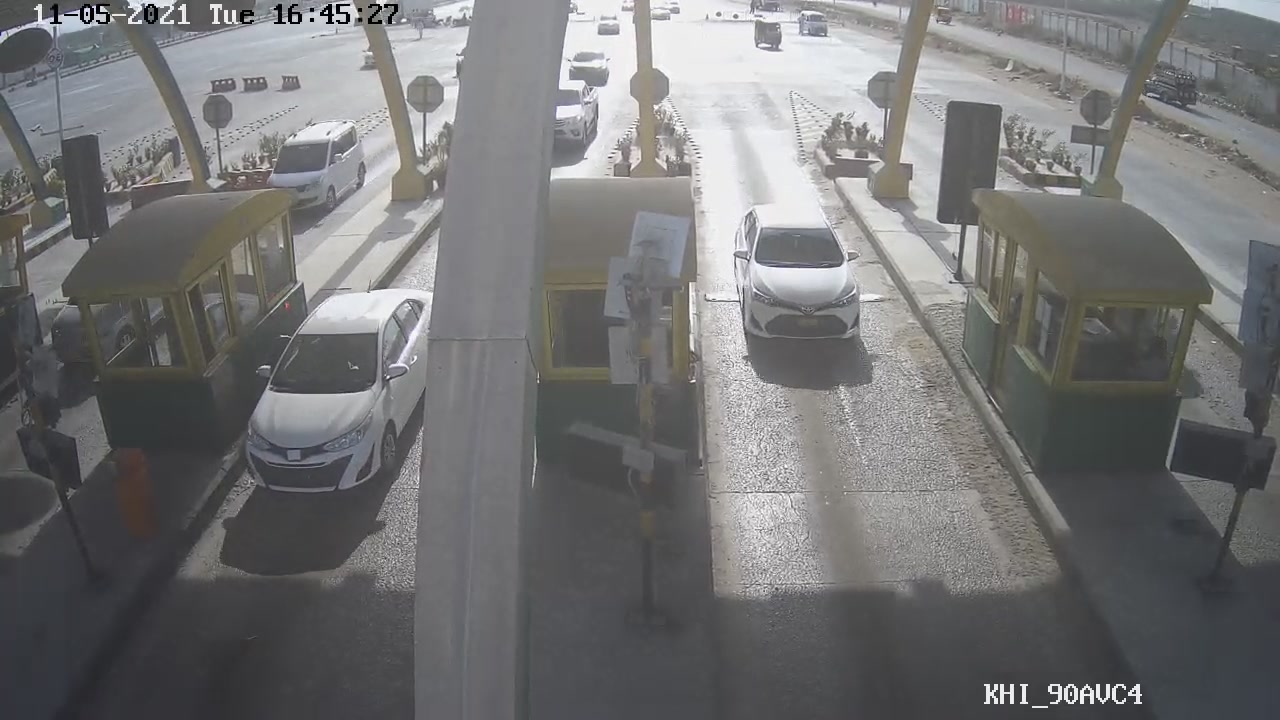F1: (726, 204, 868, 344)
